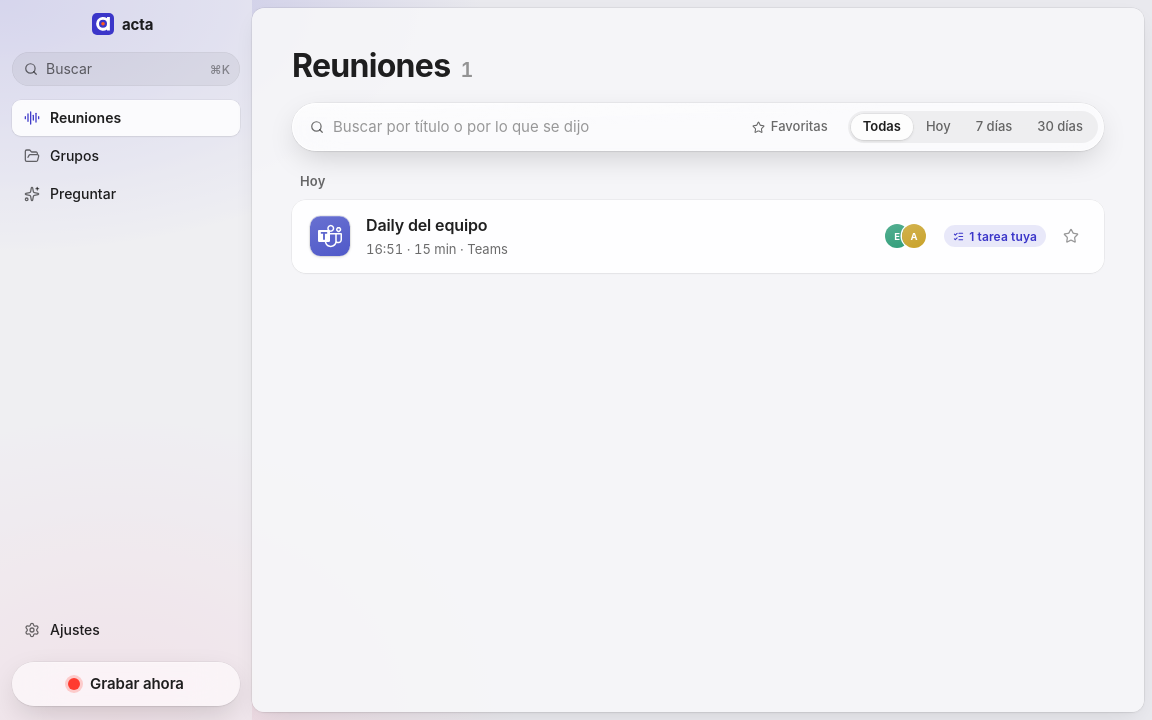
Test case: App › abre en la lista de reuniones y entra al detalle
This screenshot has width=1152, height=720.
Click the button "Daily del equipo 16:51 · 15 min · Teams E A": coordinates (330, 236) [292, 200, 932, 273]
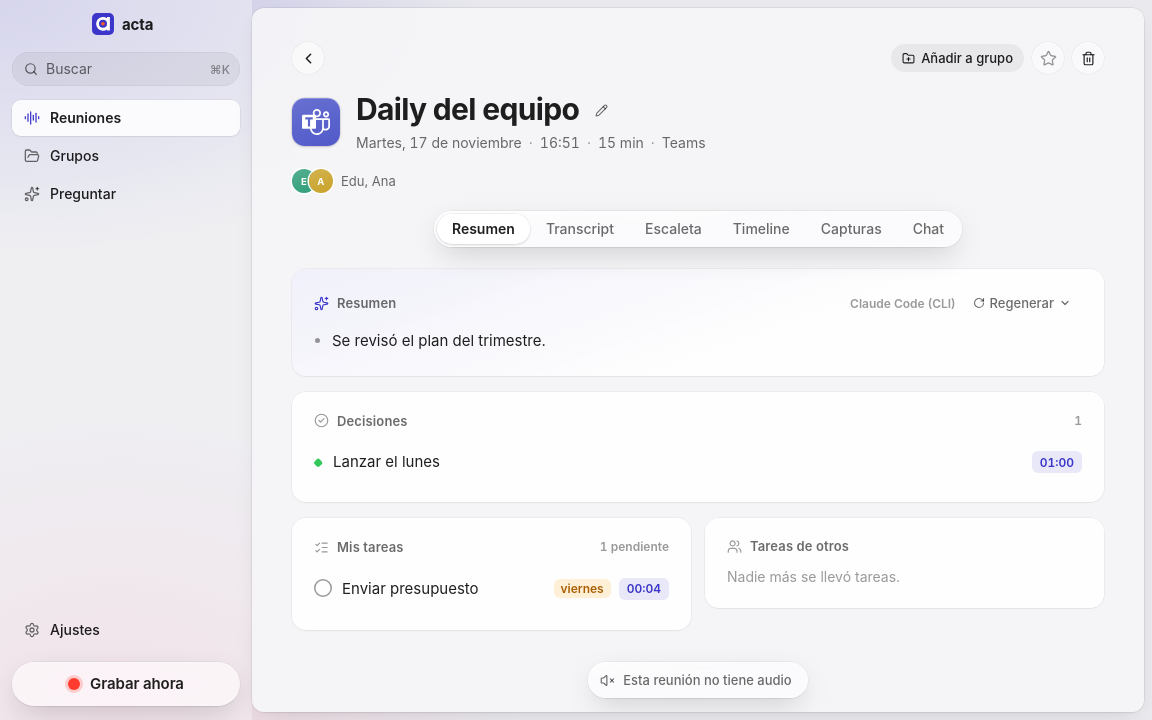
expect the heading "Daily del equipo" is shown: met, box [356, 93, 579, 127]
Click the button named "Volver": coordinates (308, 58) [292, 42, 324, 74]
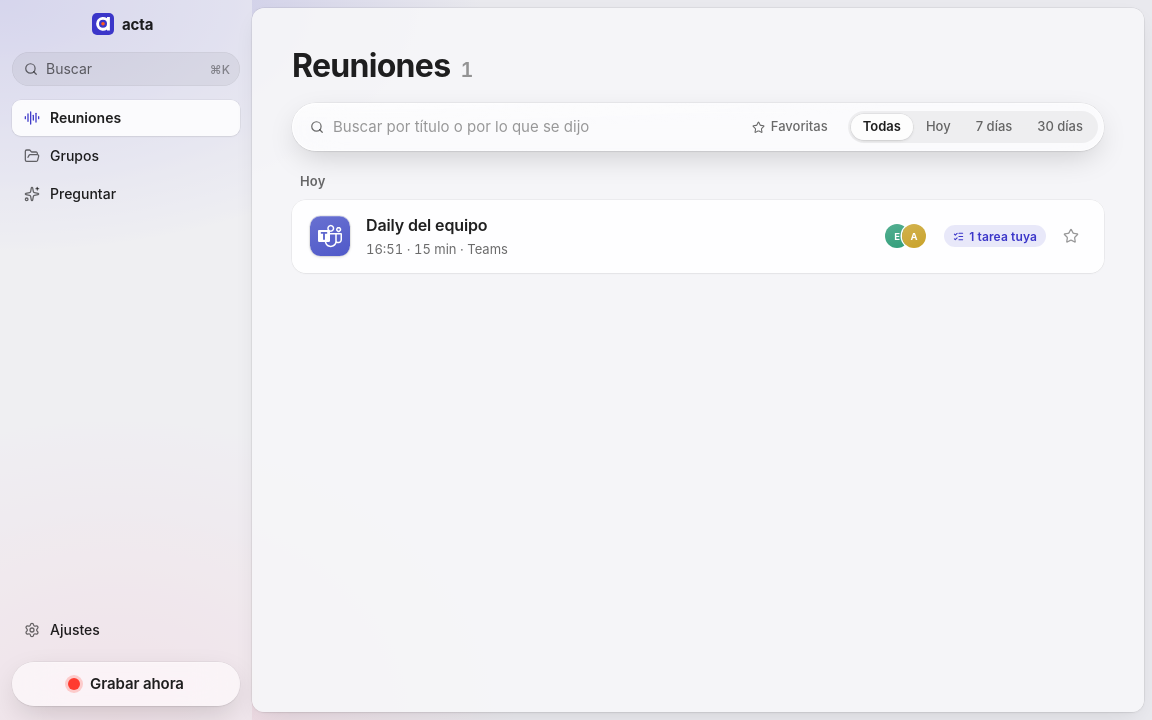
expect the search field named "Buscar reuniones" is shown: met, box [333, 109, 720, 145]
